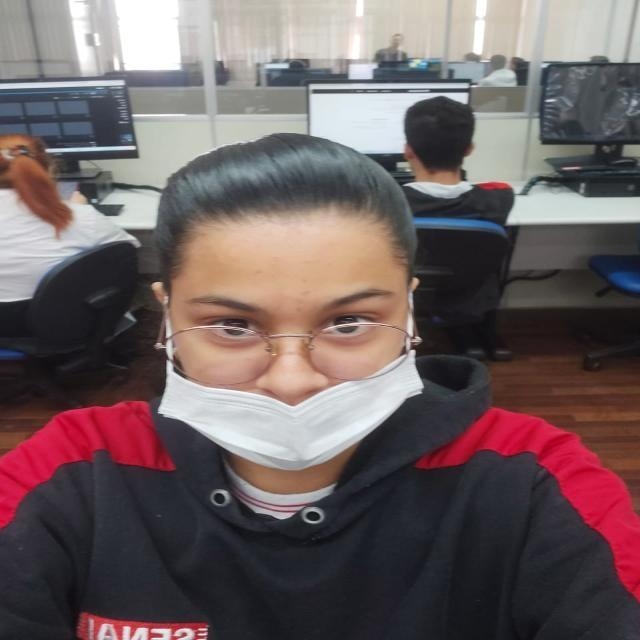hairnet: (142, 334, 425, 464)
